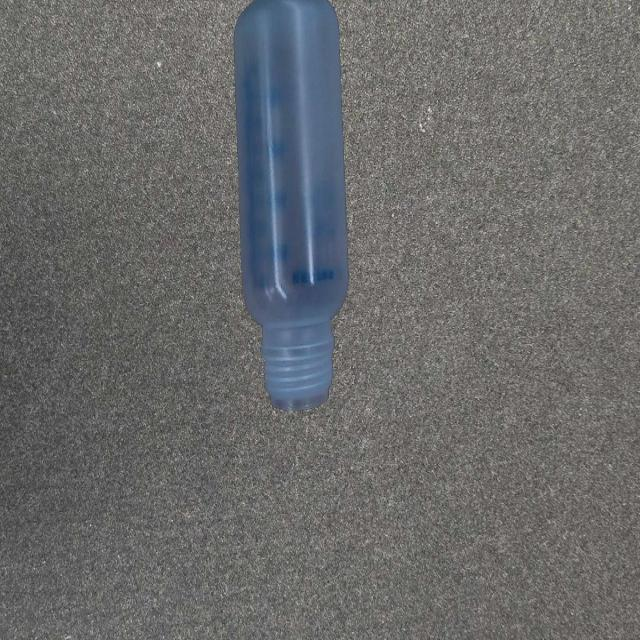bottle: (231, 0, 352, 412)
